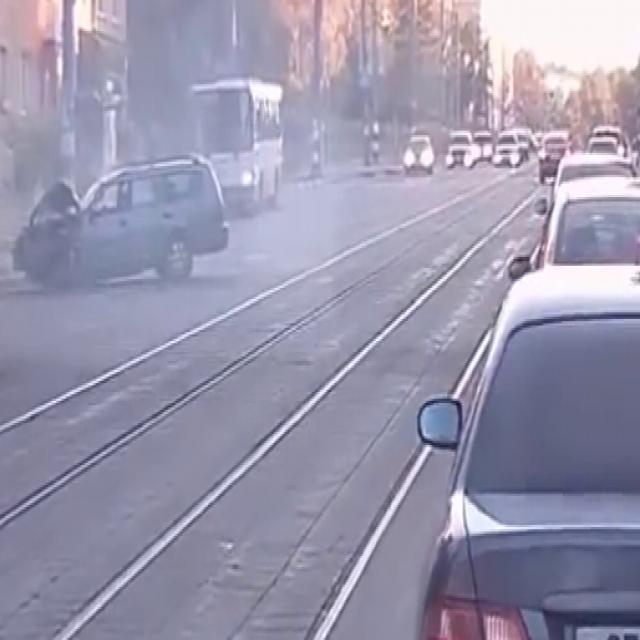accident: (11, 152, 250, 304)
